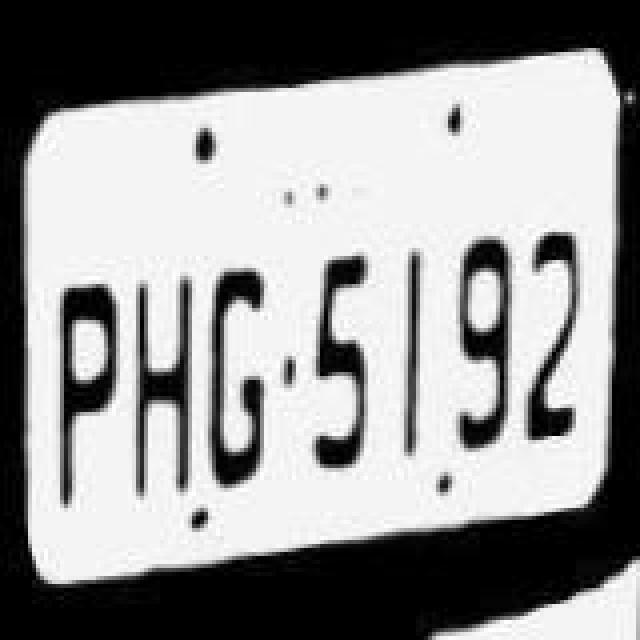1: (380, 220, 440, 480)
2: (518, 204, 590, 472)
5: (298, 238, 378, 490)
9: (444, 206, 520, 474)
G: (204, 224, 280, 504)
H: (124, 234, 200, 502)
P: (40, 246, 120, 514)
